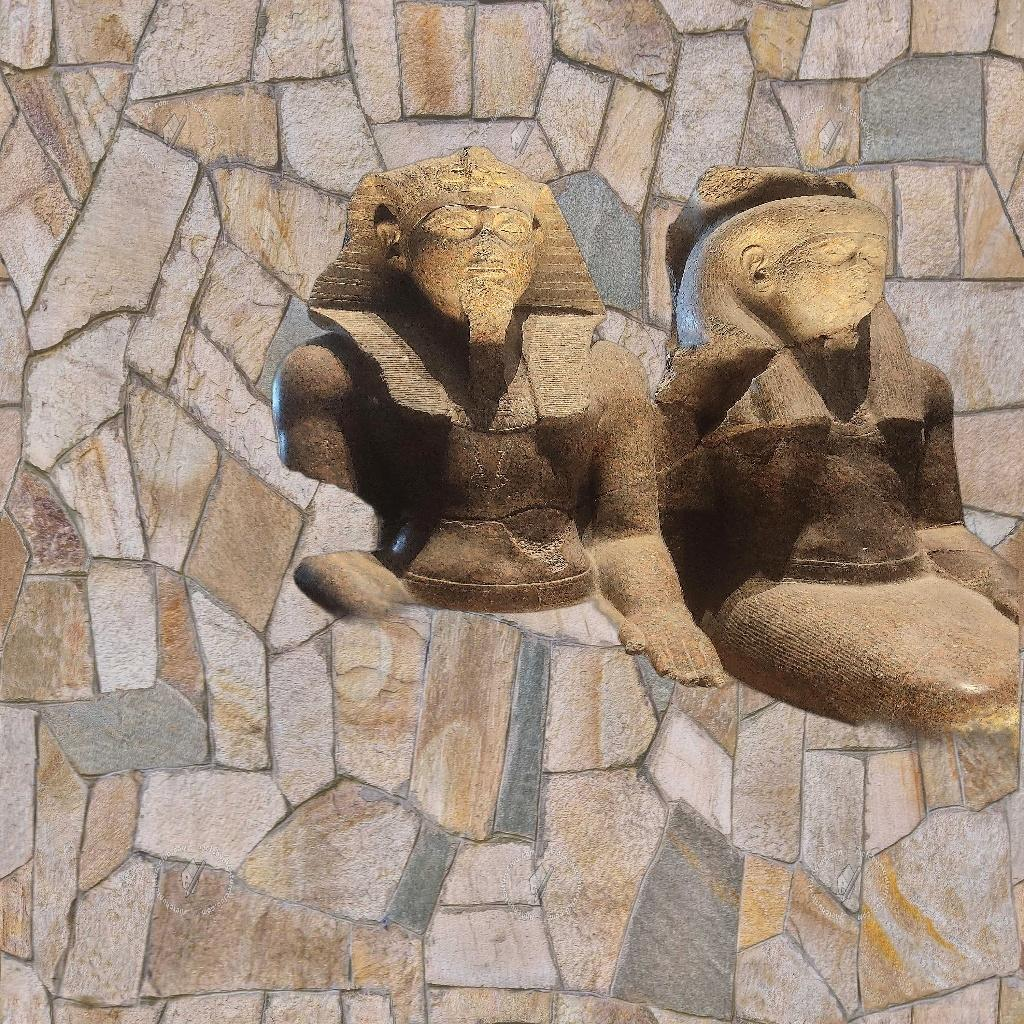Seated Statue of Ramesses II and God Ptah: (271, 146, 1019, 1022)
